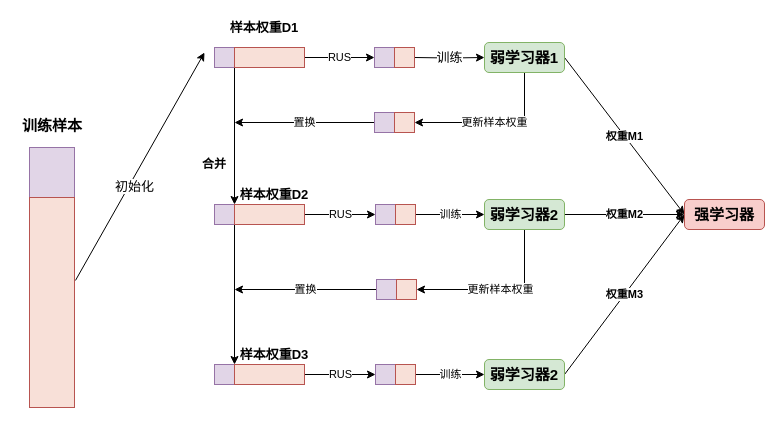
Some shapes in this 782 by 425 pixel diagram are drawn without their labels. Here are the shapes that lost their labels. From the top down, the centre of each, then its label:
(51,172): 少数类
(51,302): 多数类
